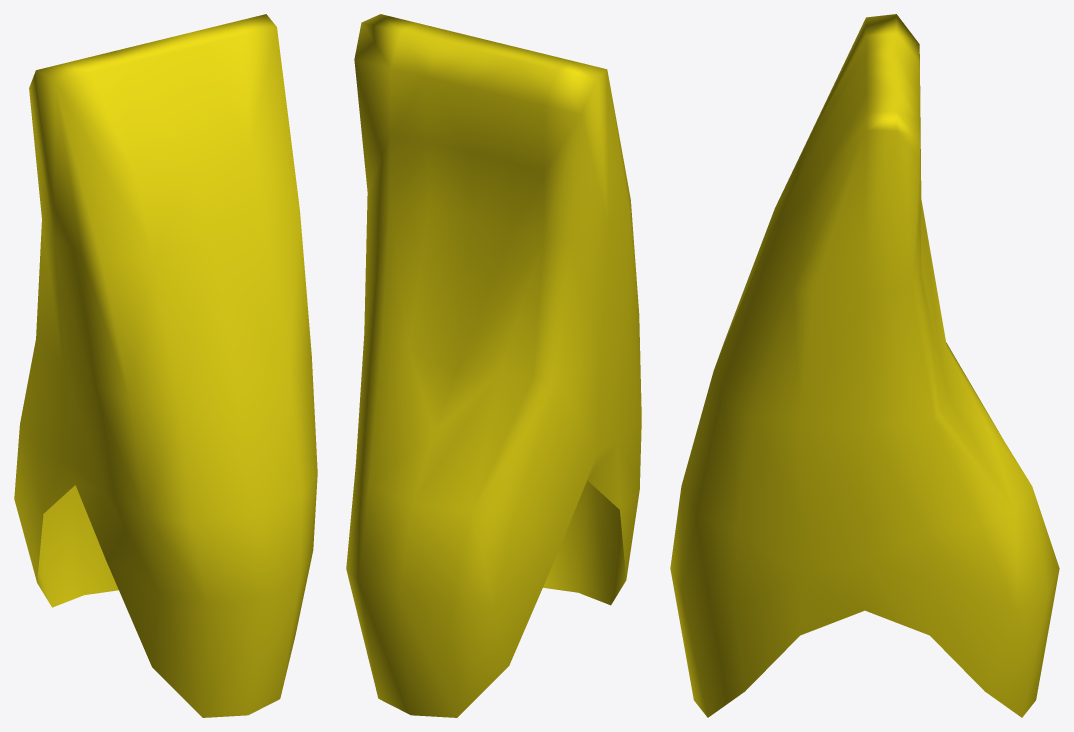
Rendered from D32N_NUC.obj.
3 renders of one model, left to right at view 1: azimuth 30°, elevation 25°; view 2: azimuth 150°, elevation 25°; view 3: azimuth 270°, elevation 25°, orthographic. The views are drawn at different scales.
Parts seen in each view (by area): view 1: D32N_NUC; view 2: D32N_NUC; view 3: D32N_NUC.
Boxes of the visible parts, x1=… form: D32N_NUC: x1=14, y1=14, x2=317, y2=717; D32N_NUC: x1=346, y1=14, x2=641, y2=717; D32N_NUC: x1=670, y1=14, x2=1059, y2=717.
Size of the model in its own units: 2.85 by 7.12 by 4.
